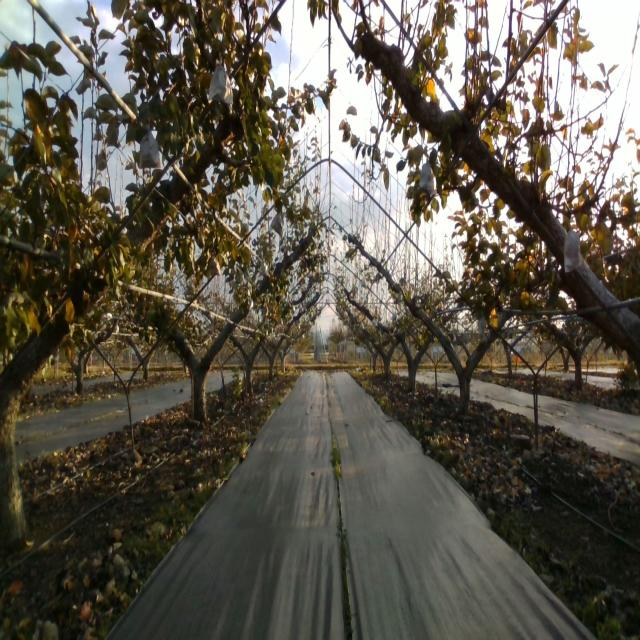pearbags: (208, 56, 234, 105), (138, 125, 161, 169), (564, 229, 582, 273), (417, 156, 437, 195), (270, 210, 285, 240), (477, 315, 488, 343), (209, 257, 221, 277)
